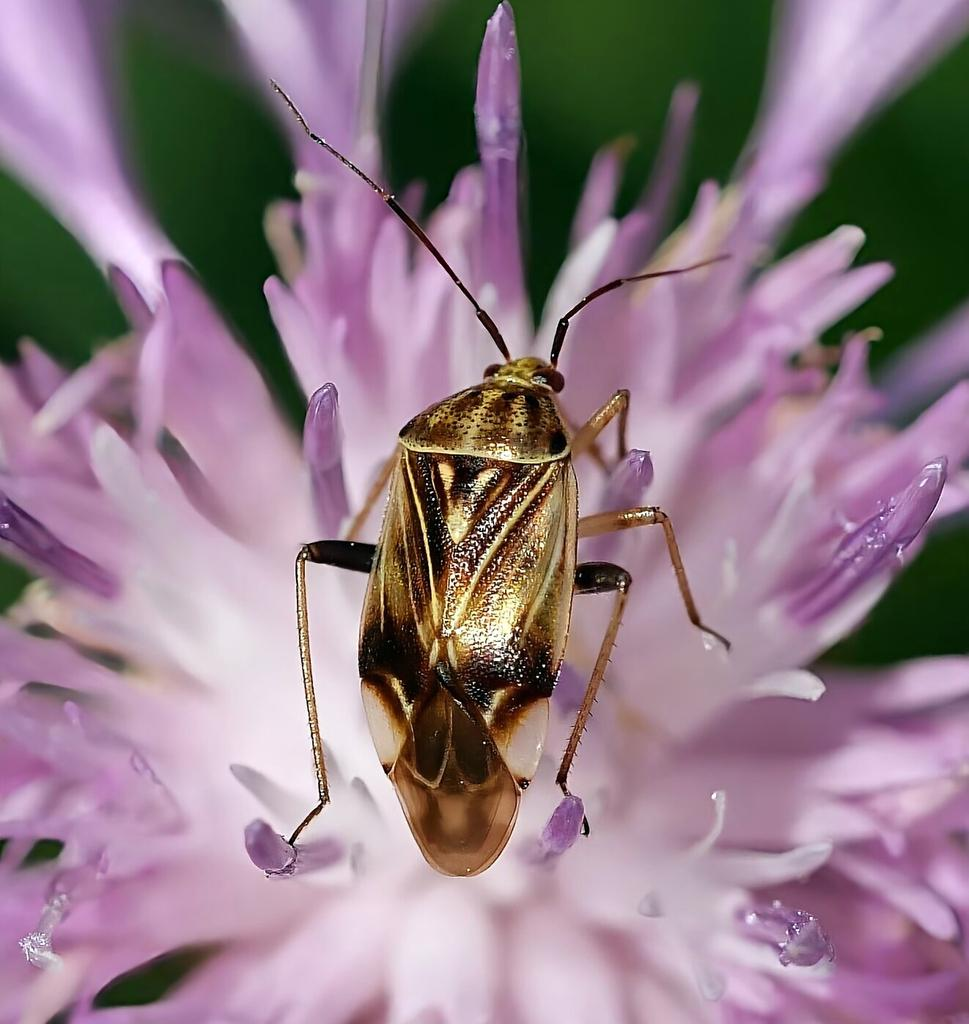plant_bugs: (196, 26, 823, 965)
